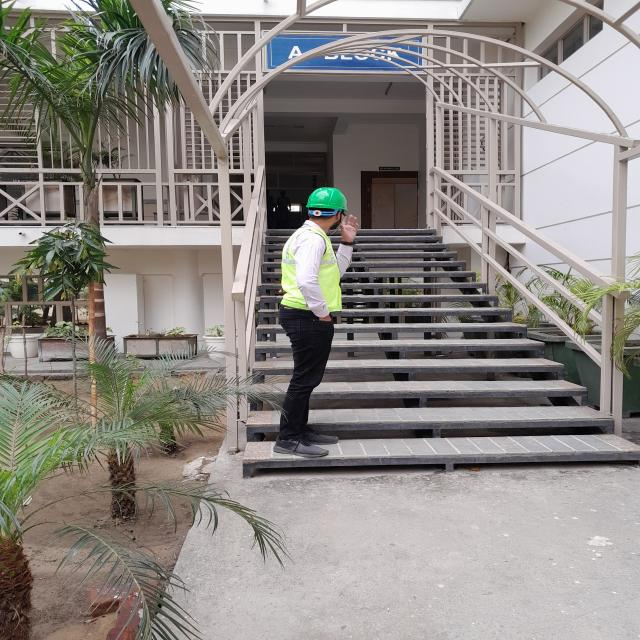safe: (280, 188, 354, 456)
